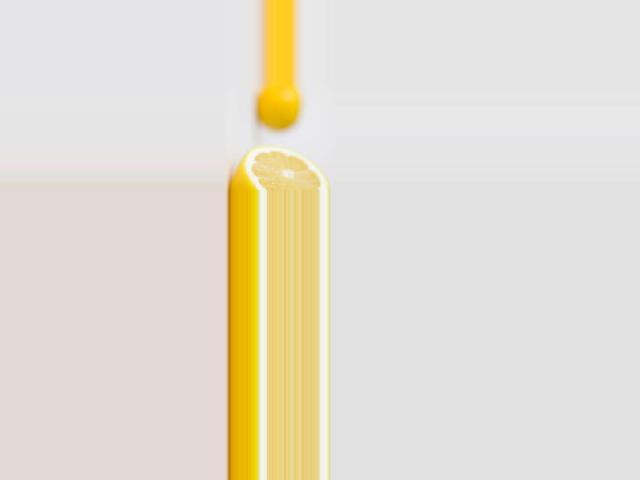lemon: (260, 83, 299, 129)
